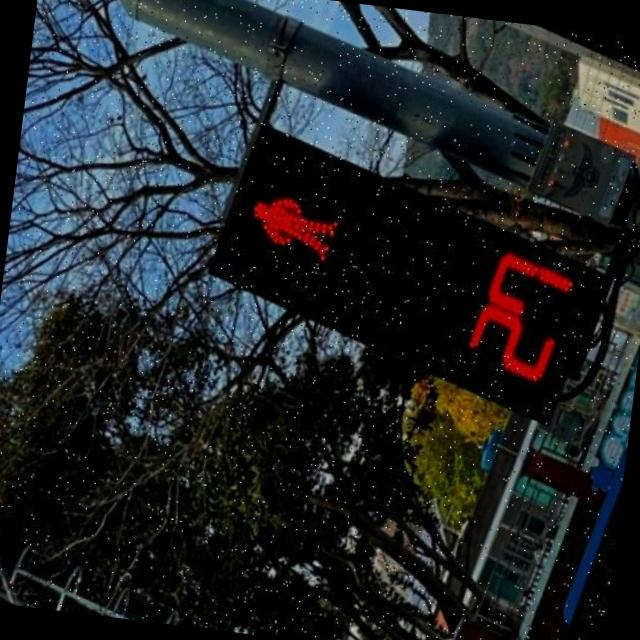red_light: (208, 119, 606, 400)
